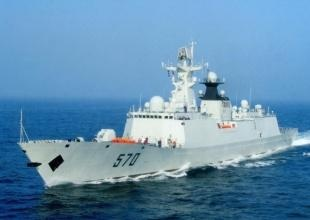warship: (22, 50, 301, 188)
